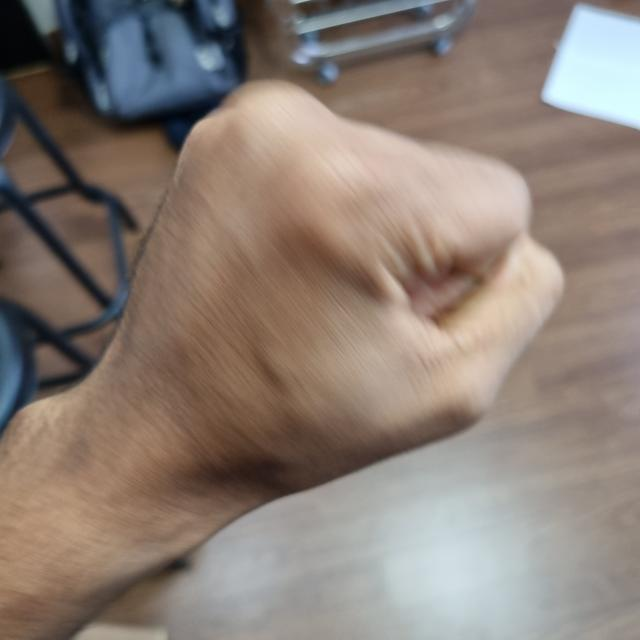Rock: (81, 90, 531, 517)
